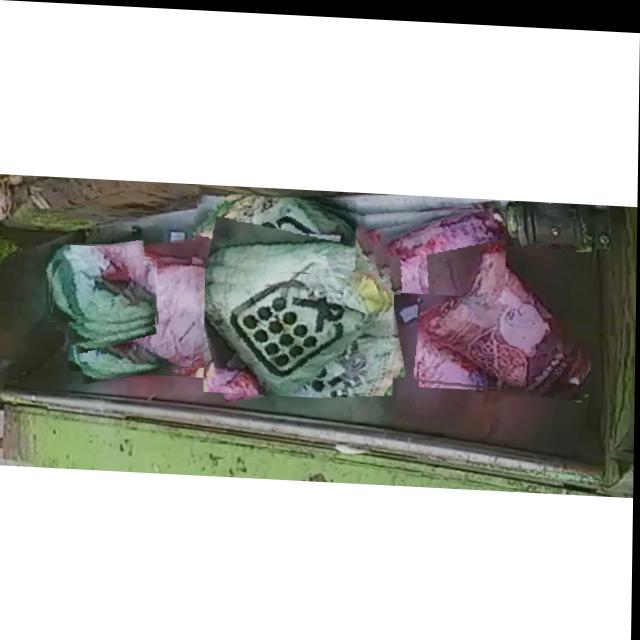general_trashbag: (206, 224, 386, 393), (195, 192, 356, 266)
other_trashbag: (418, 240, 587, 389), (69, 256, 228, 365), (358, 201, 506, 289), (51, 257, 157, 323)
